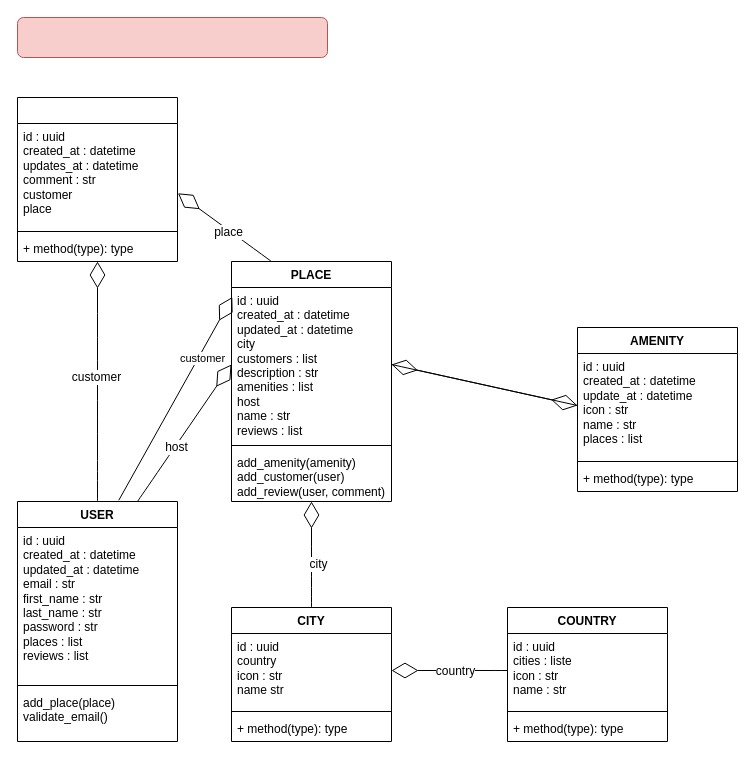
Some shapes in this 755 by 762 pixel diagram are drawn without their labels. The box of each missing label's shape, as (x1, y1, x2, y2) in pixels:
REVIEW: (16, 96, 178, 262)
UML du projet HBnB / v1: (16, 16, 328, 58)
